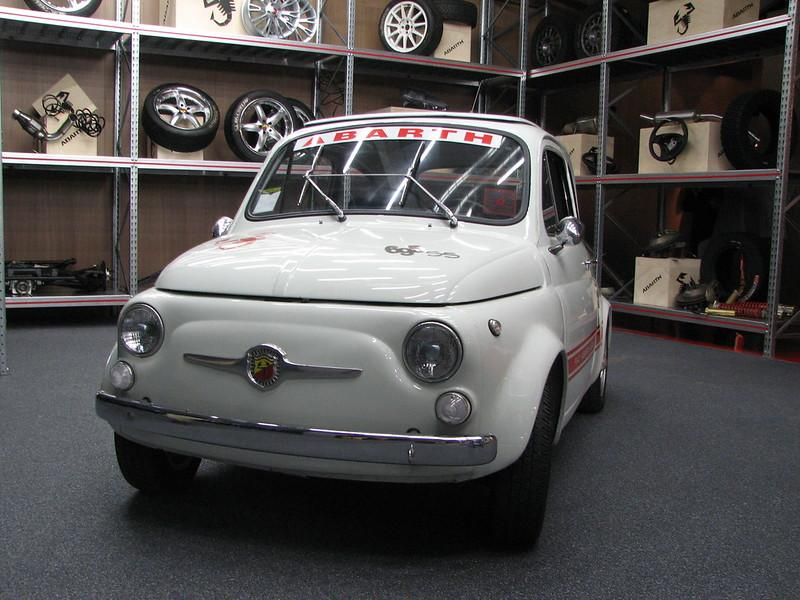windshield: (239, 117, 532, 237)
